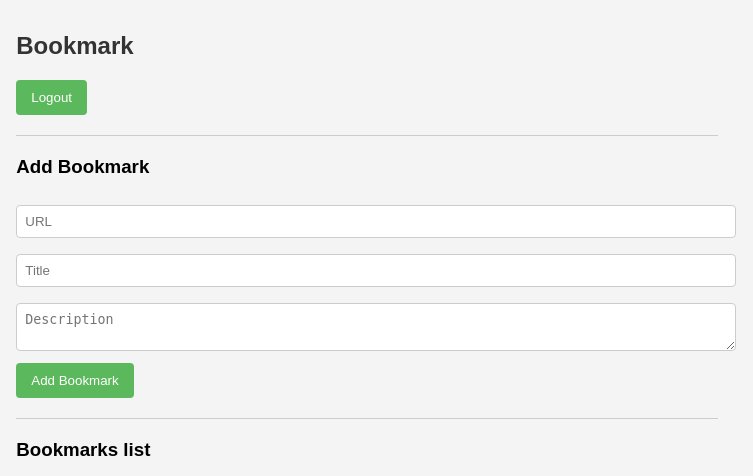
Test case: ブックマーク操作 › ログアウトするとログイン画面に戻る
Expected: the heading "Bookmarks list" is shown, x1=16 y1=438 x2=150 y2=460
Click the button "Logout" at (52, 97), box x1=16 y1=80 x2=87 y2=115
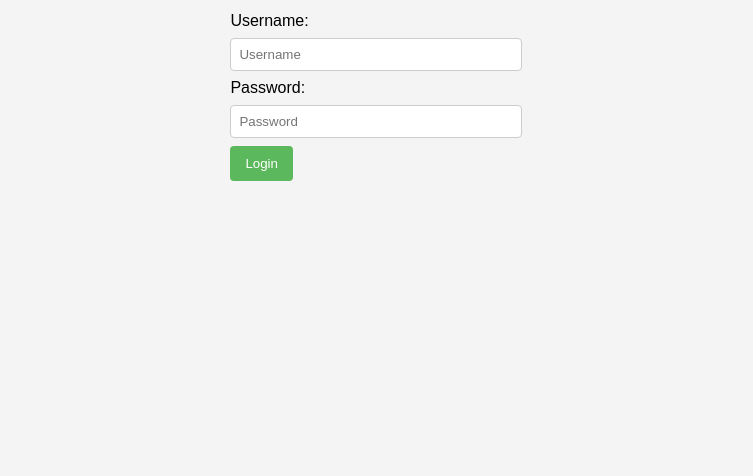
Result: the button "Login" is shown at x1=230 y1=146 x2=293 y2=181
